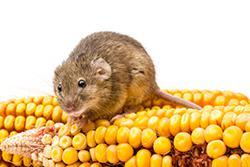rat: (52, 31, 202, 128)
